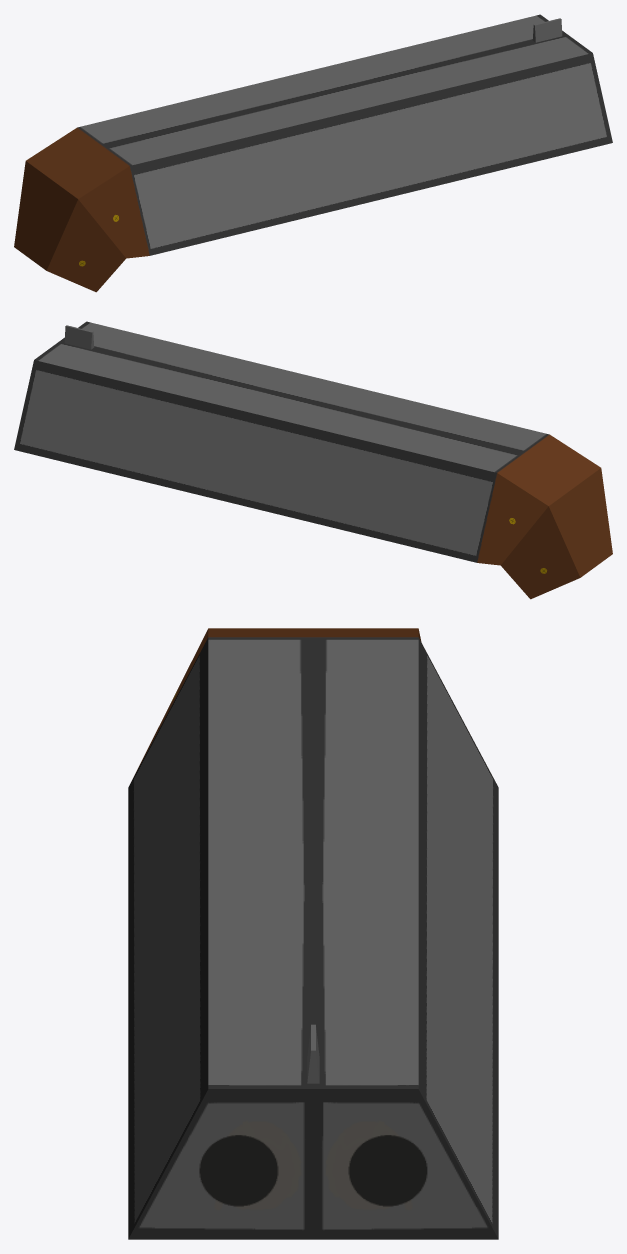
The model's file is barrel_gun.glb.
3 views of the same model, one above another, from view 1: azimuth 30°, elevation 25°; view 2: azimuth 150°, elevation 25°; view 3: azimuth 270°, elevation 25° (orthographic). The views are drawn at different scales.
Visible parts, largest first — view 1: BarrelGun; view 2: BarrelGun; view 3: BarrelGun.
Boxes of the visible parts, x1,y1,x2,y2 form: BarrelGun: [14, 14, 612, 292]; BarrelGun: [14, 321, 612, 599]; BarrelGun: [128, 628, 498, 1239].
Bounding box in the file's own units: 8.7 × 2.05 × 2.6.
1 material, 1 textured.
